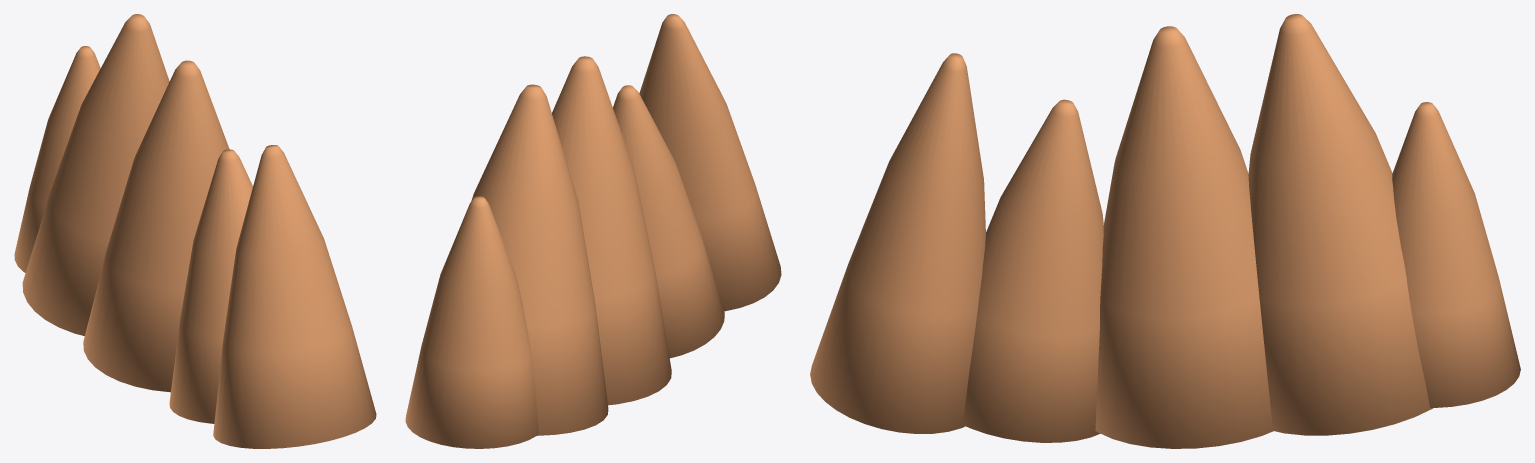
Rendered from Decoration1.fbx.
3 renders of one model, left to right at view 1: azimuth 30°, elevation 25°; view 2: azimuth 150°, elevation 25°; view 3: azimuth 270°, elevation 25°, orthographic. The views are drawn at different scales.
Parts seen in each view (by area): view 1: Cylinder.059, Cylinder.057, Cylinder.056, Cylinder.055, Cylinder.058; view 2: Cylinder.056, Cylinder.058, Cylinder.057, Cylinder.059, Cylinder.055; view 3: Cylinder.057, Cylinder.056, Cylinder.059, Cylinder.055, Cylinder.058.
Boxes of the visible parts, bbox=[...] form: Cylinder.059: bbox=[213, 145, 376, 448]; Cylinder.057: bbox=[83, 60, 229, 392]; Cylinder.056: bbox=[22, 14, 169, 335]; Cylinder.055: bbox=[169, 149, 252, 423]; Cylinder.058: bbox=[14, 46, 100, 272]; Cylinder.056: bbox=[471, 84, 608, 435]; Cylinder.058: bbox=[405, 196, 538, 448]; Cylinder.057: bbox=[552, 56, 671, 405]; Cylinder.059: bbox=[639, 14, 781, 311]; Cylinder.055: bbox=[613, 85, 724, 358]; Cylinder.057: bbox=[1095, 26, 1273, 448]; Cylinder.056: bbox=[1248, 14, 1433, 435]; Cylinder.059: bbox=[810, 53, 985, 433]; Cylinder.055: bbox=[963, 99, 1103, 442]; Cylinder.058: bbox=[1392, 102, 1520, 407].
Bounding box in the file's own units: 24.39 × 44.81 × 73.03.
